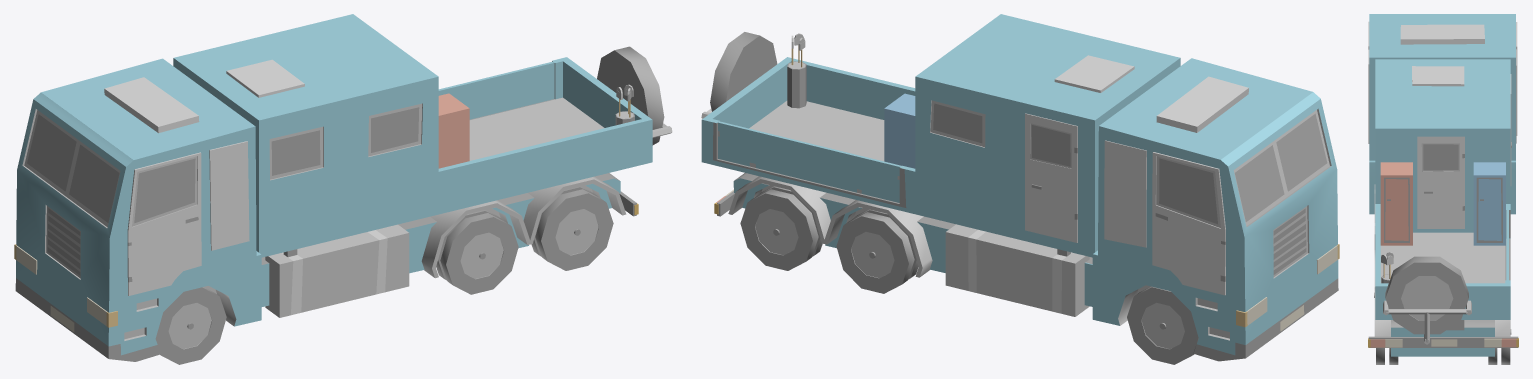
The model's file is kar2.fbx.
3 renders of one model, left to right at view 1: azimuth 30°, elevation 25°; view 2: azimuth 150°, elevation 25°; view 3: azimuth 270°, elevation 25°, orthographic. The views are drawn at different scales.
Parts seen in each view (by area): view 1: Cylinder_7, Extrude_1_1, Cylinder_4_1, Cylinder_3_1, Cylinder_1_1, Cube_1; view 2: Cylinder_7, Extrude_2_1, Cube_1, Cube_5, Cylinder_5_1, Cylinder_1, Cylinder_2_1; view 3: Cylinder_7, Cube_5_1, Cylinder_1, Cylinder_3_1, Extrude_2_1, Cube_5, Cube_1.
Boxes of the visible parts, x1,y1,x2,y2 form: Cylinder_7: [14, 14, 672, 361]; Extrude_1_1: [127, 152, 201, 295]; Cylinder_4_1: [436, 210, 518, 294]; Cylinder_3_1: [531, 186, 613, 270]; Cylinder_1_1: [155, 287, 226, 364]; Cube_1: [438, 61, 554, 119]; Cylinder_7: [701, 14, 1339, 361]; Extrude_2_1: [1152, 152, 1225, 295]; Cube_1: [718, 121, 901, 202]; Cube_5: [1025, 113, 1077, 242]; Cylinder_5_1: [836, 209, 918, 293]; Cylinder_1: [740, 186, 822, 270]; Cylinder_2_1: [1127, 286, 1198, 364]; Cylinder_7: [1368, 14, 1518, 356]; Cube_5_1: [1417, 136, 1464, 228]; Cylinder_1: [1488, 329, 1511, 364]; Cylinder_3_1: [1376, 348, 1398, 364]; Extrude_2_1: [1516, 22, 1517, 135]; Cube_5: [1510, 74, 1511, 185]; Cube_1: [1506, 210, 1508, 280].
Bounding box in the file's own units: 870 × 333 × 251.
